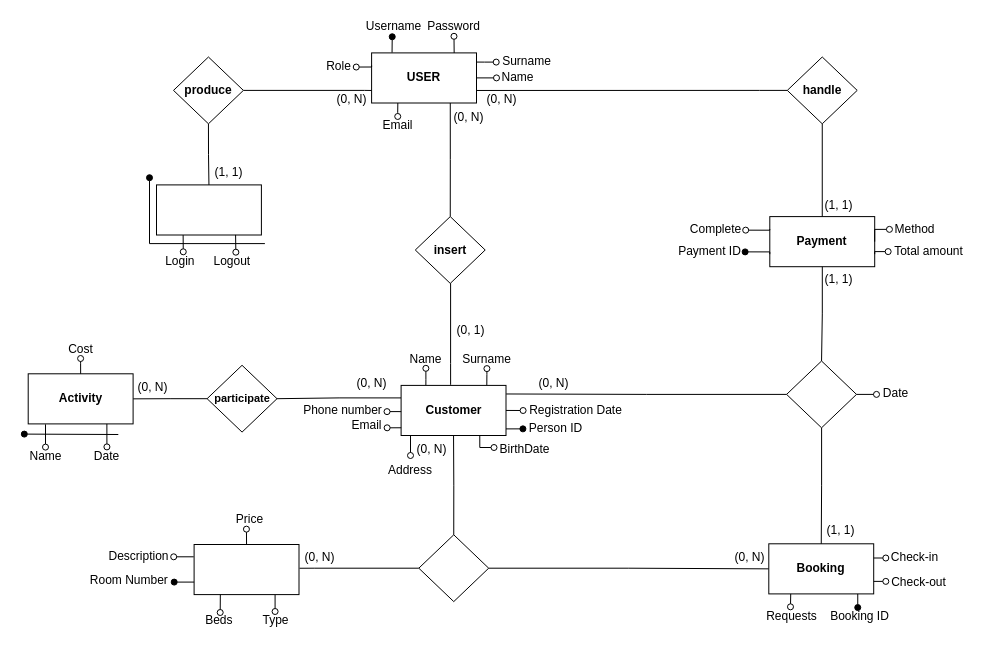
Image size: 986x649. Some labels were removed from this diagram. Here are the shapes that lost their labels. From the top down, the centre of each, then its label:
At (x=208, y=209): "Log".
At (x=821, y=394): "reserve".
At (x=246, y=569): "Room".
At (x=453, y=568): "staying".
